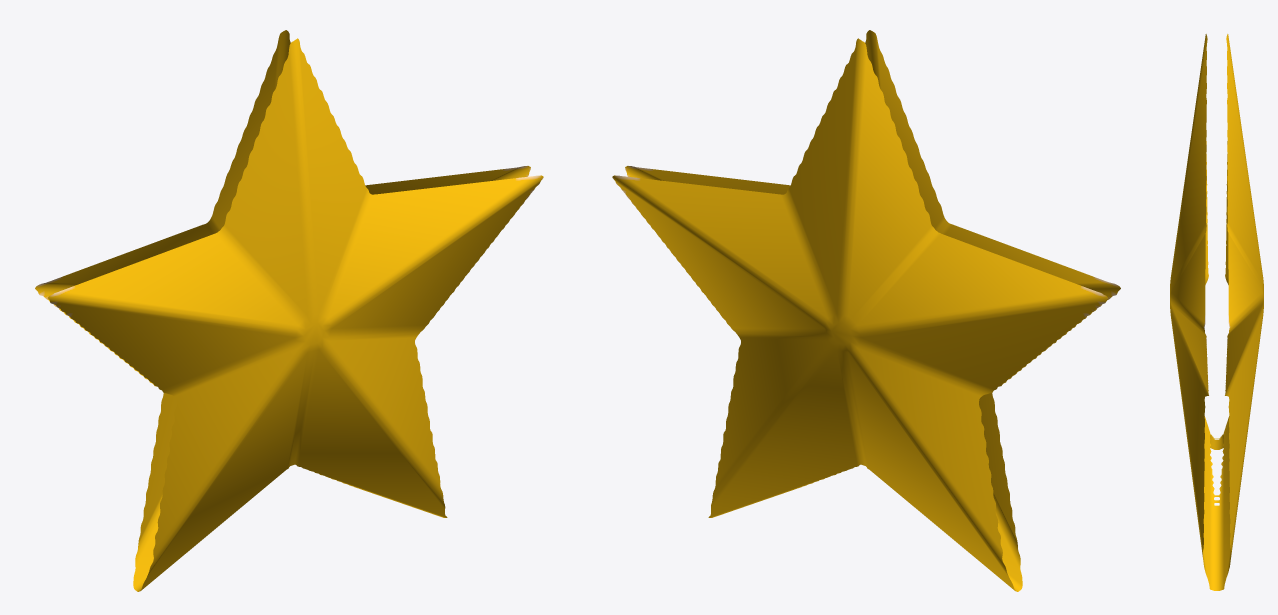
File: Star.fbx
3 renders of one model, left to right at view 1: azimuth 30°, elevation 25°; view 2: azimuth 150°, elevation 25°; view 3: azimuth 270°, elevation 25°, orthographic. The views are drawn at different scales.
Visible parts, largest first — view 1: Star; view 2: Star; view 3: Star.
Boxes of the visible parts, box(x1,y1,x2,y2) form: Star: box(35, 30, 543, 591); Star: box(612, 30, 1120, 591); Star: box(1170, 34, 1263, 590).
Size of the model in its own units: 107 by 102 by 17.03.
